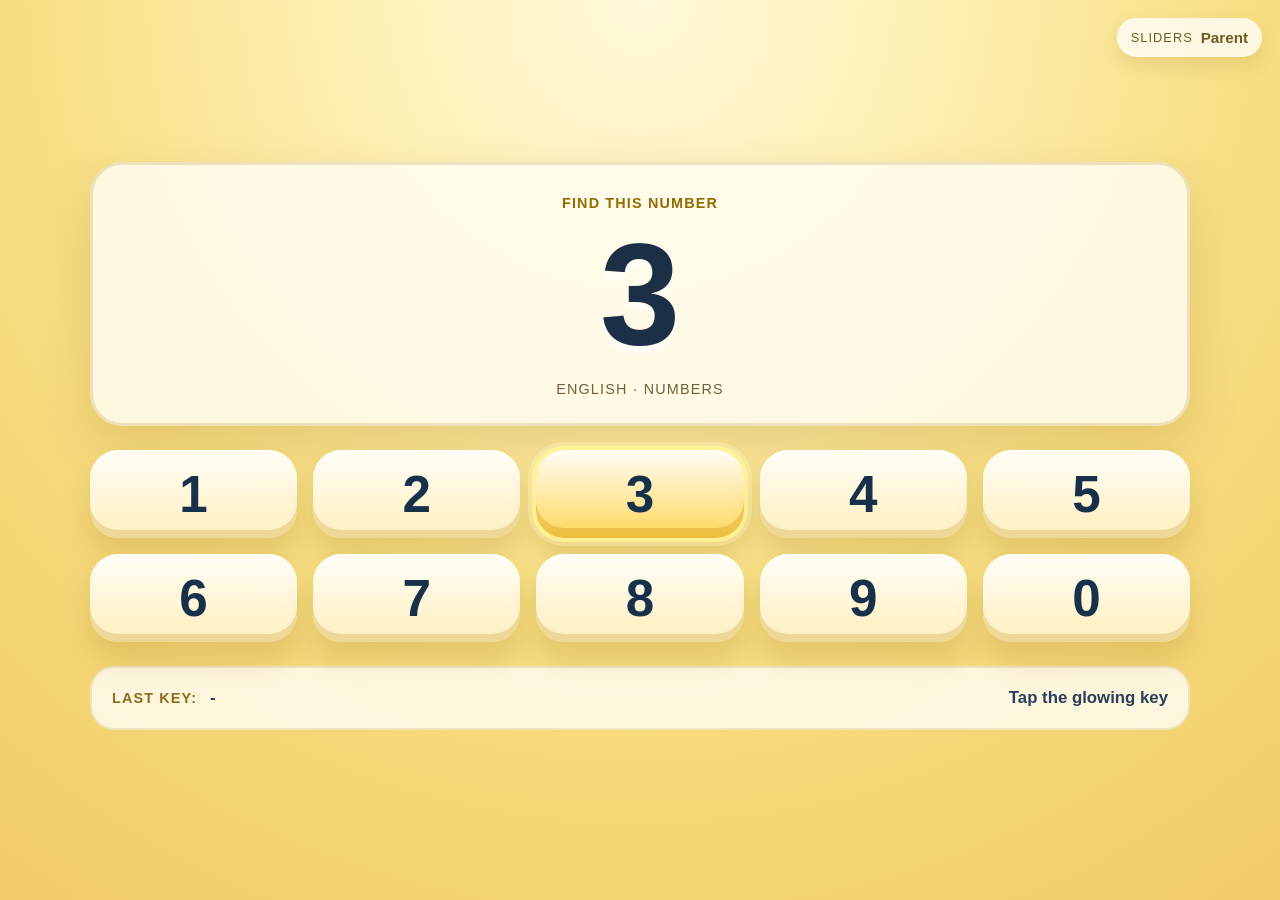
Test: App › shows lesson and hint-mode sections in the parent drawer
The width and height of the screenshot is (1280, 900).
Click the button with aria-label "open parent settings".
click(1189, 38)  # box [1117, 18, 1262, 57]
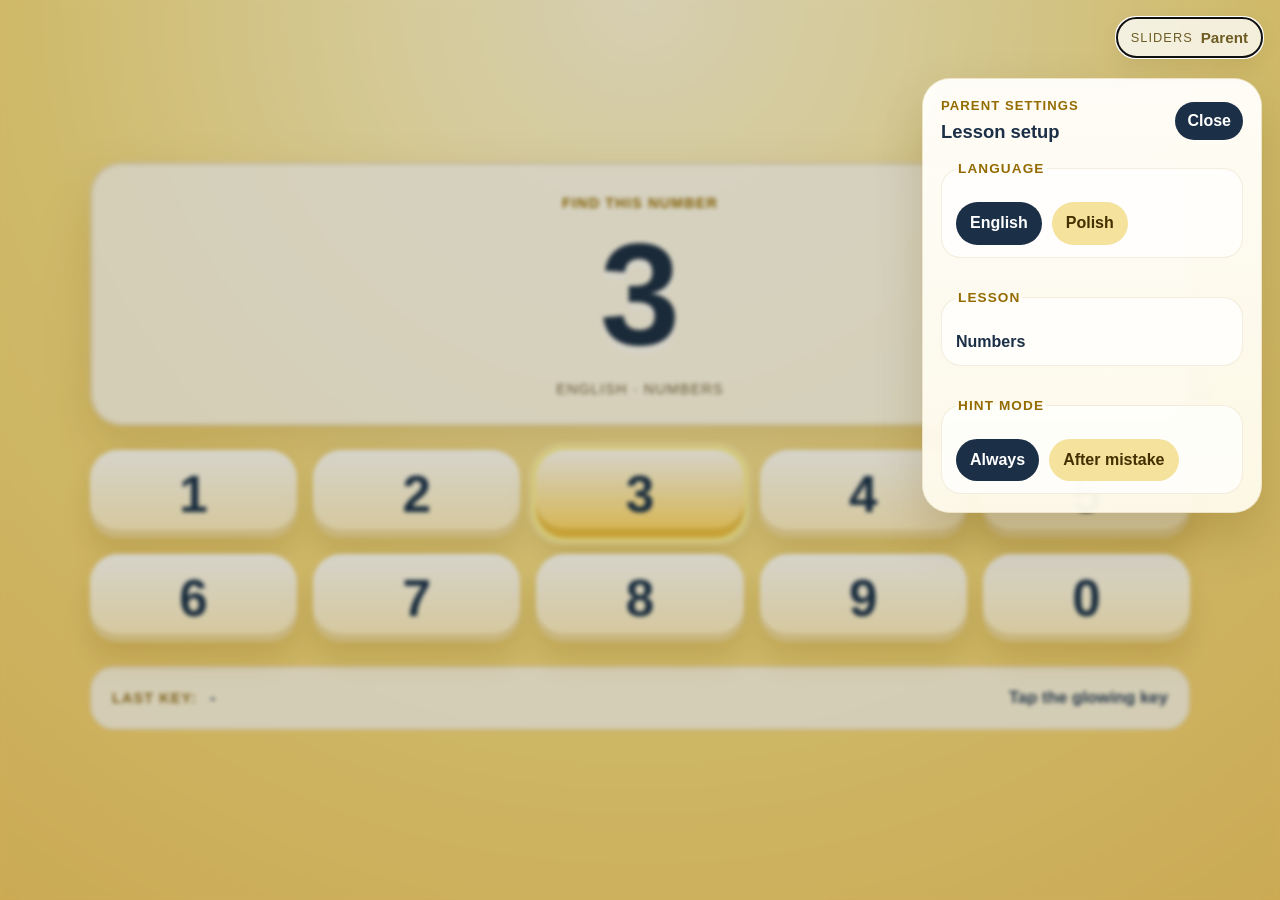
expect the text "Language" is shown: met, box [956, 159, 1046, 178]
expect the text "Lesson" is shown: met, box [956, 288, 1022, 307]
expect the text "Numbers" is shown: met, box [956, 333, 1025, 350]
